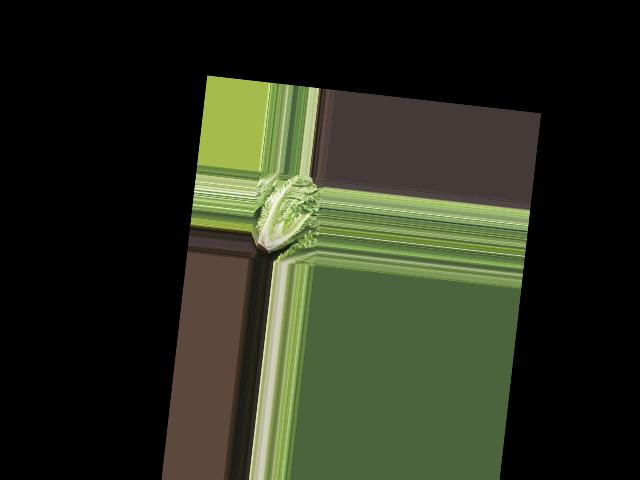lettuce: (248, 171, 320, 261)
